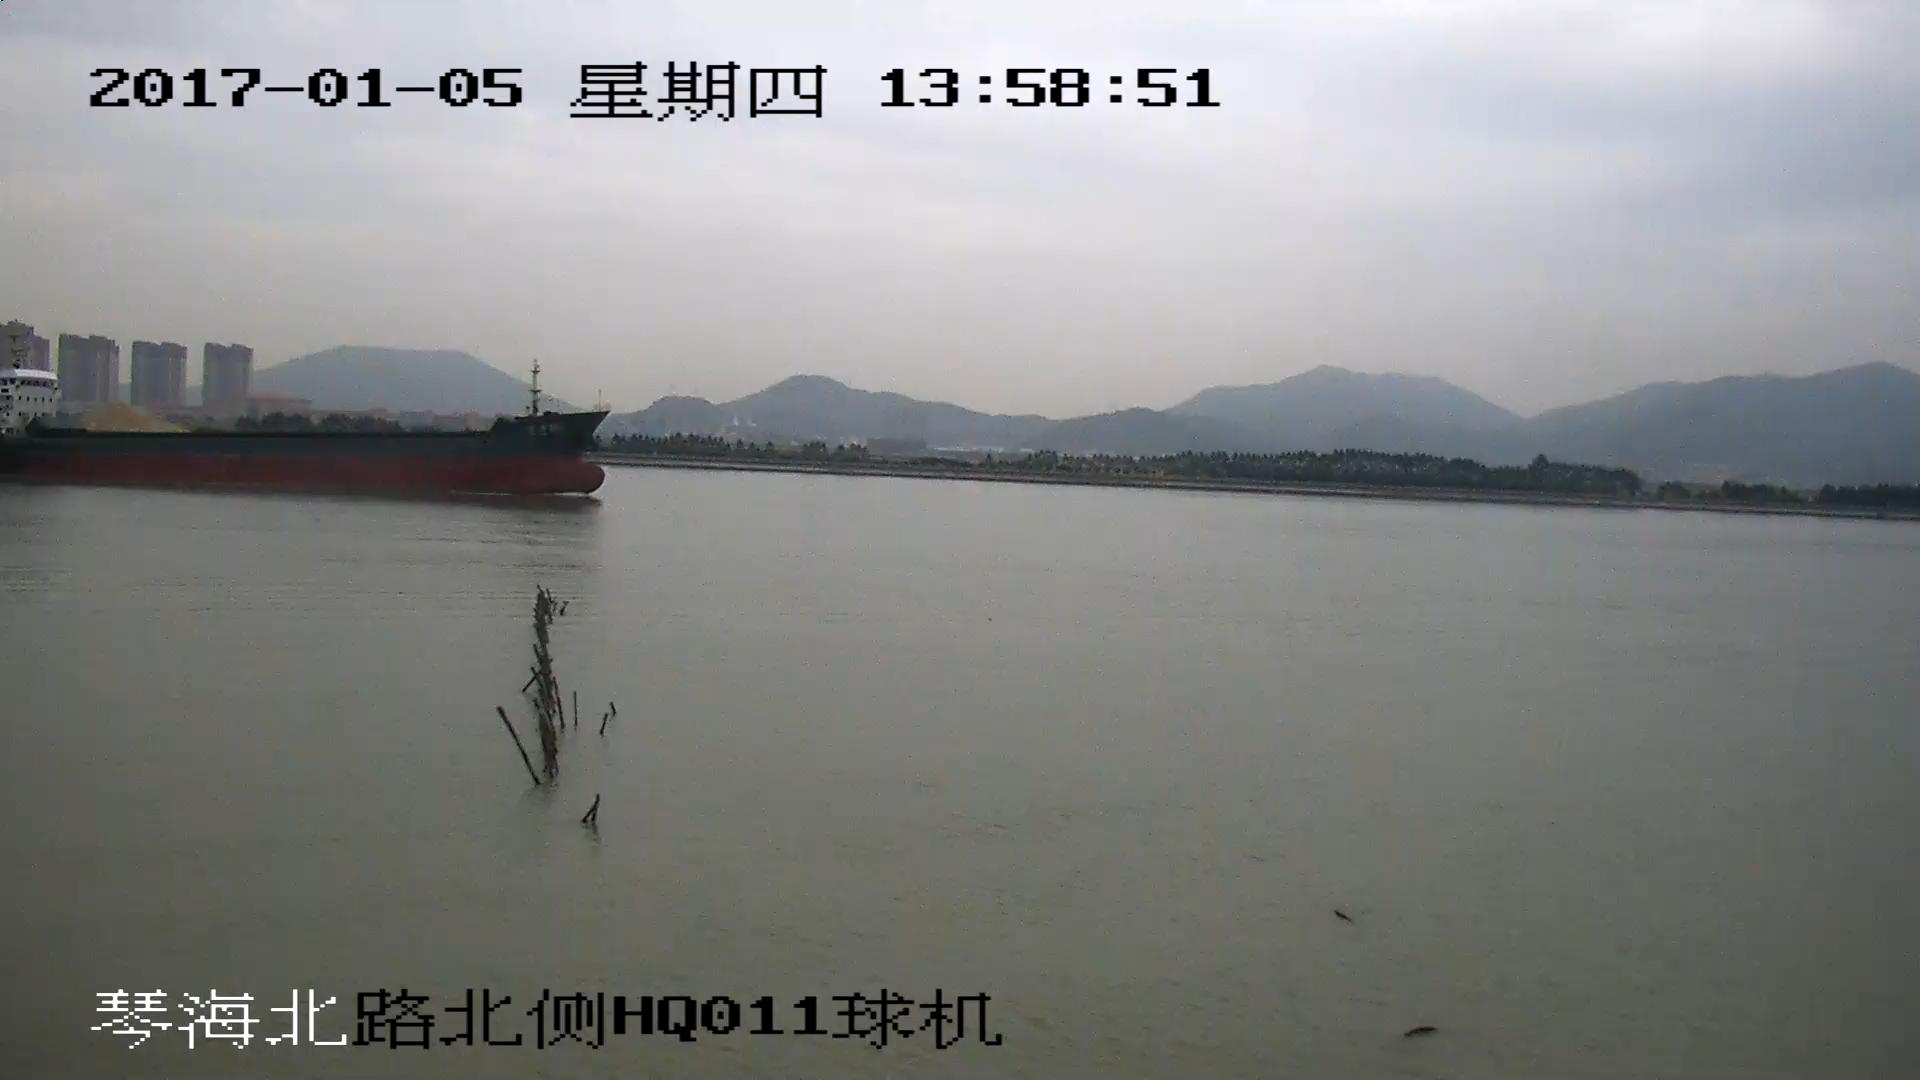general cargo ship: (1, 359, 612, 492)
